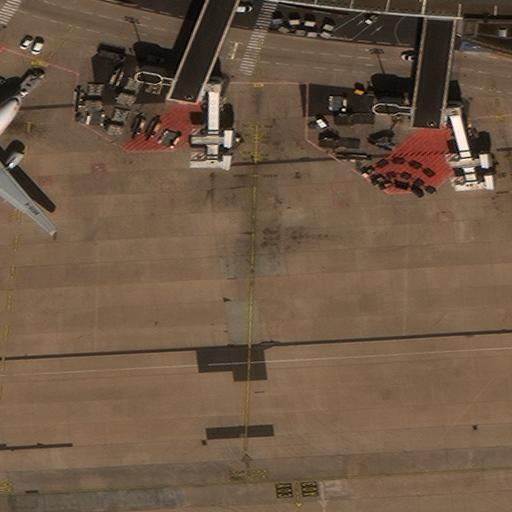Large Civil Transport: (0, 95, 56, 235)
